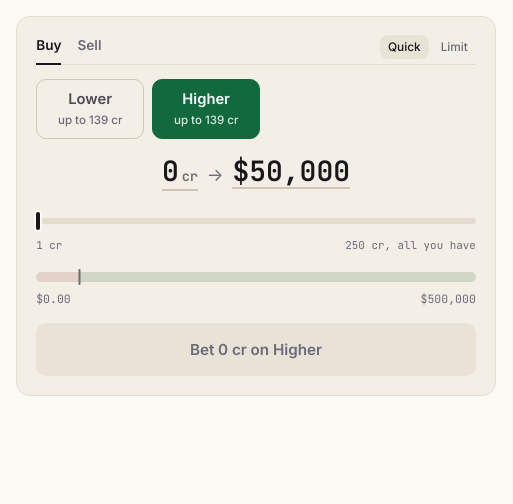
selling at a price › a lower position sells when the market falls to its price
Click the button "Sell" at (90,50), box top-left (78, 35), bottom-right (102, 65)
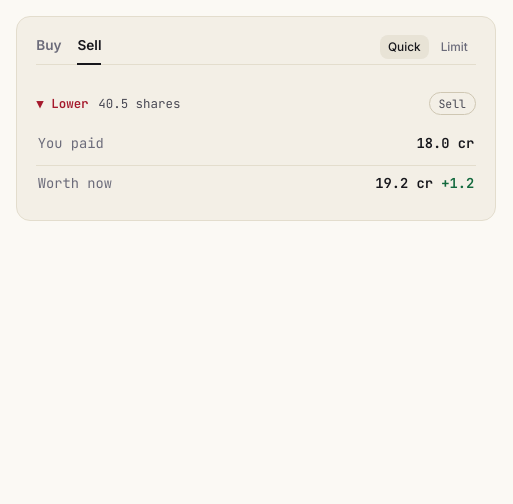
Click the button "Limit" at (454,47), box top-left (433, 35), bottom-right (476, 59)
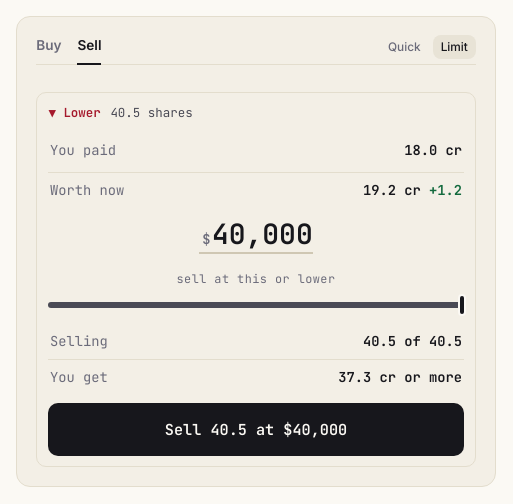
Replace the text in the field named "Limit price in $" with "20000" at (262,234), box top-left (212, 216), bottom-right (313, 252)
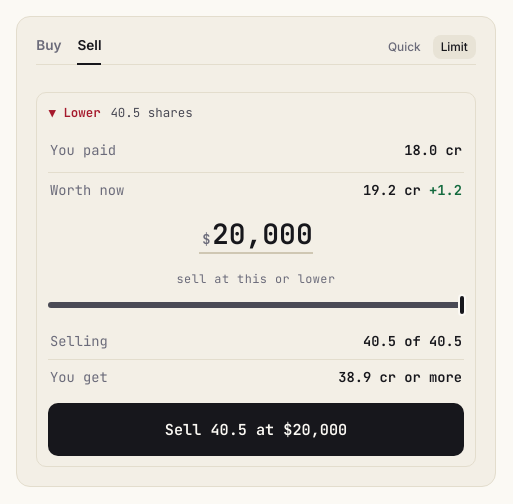
Expected: the text "sell at this or lower" is shown, top-left (176, 271), bottom-right (336, 287)
Expected: the button "Sell 40.5 at $20,000" is shown, top-left (48, 403), bottom-right (464, 456)
